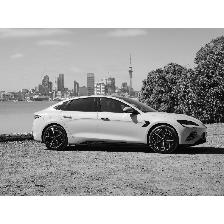EV: (34, 91, 210, 155)
